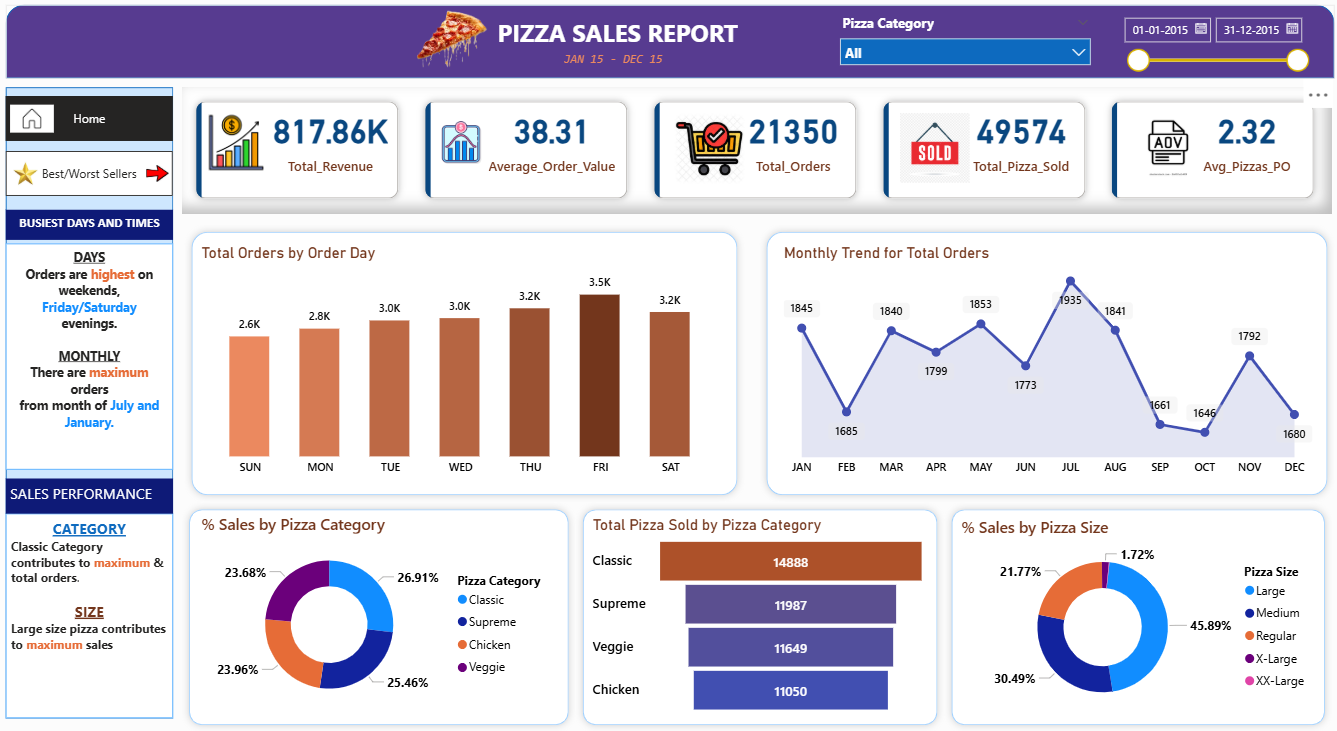

The dashboard page shown, as its layout file describes it:
{"tool":"powerbi","page":{"name":"Home","canvas":[1500,820],"ordinal":0},"visuals":[{"type":"cardVisual","fields":{"Data":["pizza_db pizza_sales.Total_Revenue","pizza_db pizza_sales.Average_Order_Value","pizza_db pizza_sales.Total_Orders","pizza_db pizza_sales.Total_Pizza_Sold","pizza_db pizza_sales.Average_Pizzas_Per_Order"]},"box":[206.1,101.7,1281.3,140.7],"z":0},{"type":"shape","box":[9.7,9.7,1480.4,82.2],"z":1000},{"type":"textbox","box":[536.2,18.1,310.6,51.5],"z":2000},{"type":"textbox","box":[626.7,55.7,142.1,46],"z":3000},{"type":"image","box":[440.1,0,136.5,91.9],"z":4000},{"type":"shape","box":[208.9,254.9,623.9,309.2],"z":5000},{"type":"columnChart","title":"Total Orders by Order Day","fields":{"Category":["pizza_db pizza_sales.Order_Day"],"Y":["pizza_db pizza_sales.Total_Orders"]},"box":[222.8,275.7,587.7,267.4],"z":6000},{"type":"shape","box":[849.5,254.9,640.6,309.2],"z":7000},{"type":"areaChart","title":"Monthly Trend for Total Orders","fields":{"Category":["pizza_db pizza_sales.Order Month"],"Y":["pizza_db pizza_sales.Total_Orders"]},"box":[871.8,275.7,598.8,267.4],"z":8000},{"type":"shape","box":[644.8,564,410.8,256.3],"z":9000},{"type":"shape","box":[206.1,564,438.7,256.3],"z":10000},{"type":"shape","box":[1055.6,564,431.7,256.3],"z":11000},{"type":"donutChart","title":"% Sales by Pizza Category","fields":{"Category":["pizza_db pizza_sales.pizza_category"],"Y":["pizza_db pizza_sales.Total_Revenue"]},"box":[222.8,576.6,403.9,225.6],"z":12000},{"type":"donutChart","title":"% Sales by Pizza Size","fields":{"Y":["pizza_db pizza_sales.Total_Revenue"],"Category":["pizza_db pizza_sales.pizza_size"]},"box":[1069.6,579.4,403.9,225.6],"z":13000},{"type":"funnel","title":"Total Pizza Sold by Pizza Category","fields":{"Y":["pizza_db pizza_sales.Total_Pizza_Sold"],"Category":["pizza_db pizza_sales.pizza_category"]},"box":[658.7,579.4,381.6,225.6],"z":14000},{"type":"shape","box":[9.7,101.7,186.6,703.3],"z":15000},{"type":"textbox","box":[9.7,238.1,186.6,33.4],"z":16000},{"type":"textbox","box":[9.7,275.7,186.6,252.1],"z":17000},{"type":"textbox","box":[9.7,576.6,186.6,228.4],"z":18000},{"type":"textbox","box":[9.7,537.6,186.6,39],"z":19000},{"type":"slicer","fields":{"Values":["pizza_db pizza_sales.pizza_category"]},"box":[928.9,15.3,299.4,61.3],"z":20000},{"type":"slicer","fields":{"Values":["pizza_db pizza_sales.order_date"]},"box":[1243.7,13.9,227,78],"z":21000},{"type":"pageNavigator","box":[9.7,111.4,186.6,50.1],"z":22000},{"type":"pageNavigator","box":[9.7,172.7,186.6,50.1],"z":23000},{"type":"image","box":[161.5,179.7,34.8,36.2],"z":24000},{"type":"image","box":[9.7,105.8,58.5,61.3],"z":25000},{"type":"image","box":[9.7,179.7,44.6,36.2],"z":26000}]}

Visuals, with their boxes in screenshot pixels (x1, y1, x2, y2), scaled from the page's 1500x820 canvas onto the 1337x731 screenshot:
cardVisual - pizza_db pizza_sales.Total_Revenue x pizza_db pizza_sales.Average_Order_Value: [x1=184, y1=91, x2=1326, y2=216]
shape: [x1=9, y1=9, x2=1328, y2=82]
textbox: [x1=478, y1=16, x2=755, y2=62]
textbox: [x1=559, y1=50, x2=685, y2=91]
image: [x1=392, y1=0, x2=514, y2=82]
shape: [x1=186, y1=227, x2=742, y2=503]
"Total Orders by Order Day" columnChart: [x1=199, y1=246, x2=722, y2=484]
shape: [x1=757, y1=227, x2=1328, y2=503]
"Monthly Trend for Total Orders" areaChart: [x1=777, y1=246, x2=1311, y2=484]
shape: [x1=575, y1=503, x2=941, y2=730]
shape: [x1=184, y1=503, x2=575, y2=730]
shape: [x1=941, y1=503, x2=1326, y2=730]
"% Sales by Pizza Category" donutChart: [x1=199, y1=514, x2=559, y2=715]
"% Sales by Pizza Size" donutChart: [x1=953, y1=517, x2=1313, y2=718]
"Total Pizza Sold by Pizza Category" funnel: [x1=587, y1=517, x2=927, y2=718]
shape: [x1=9, y1=91, x2=175, y2=718]
textbox: [x1=9, y1=212, x2=175, y2=242]
textbox: [x1=9, y1=246, x2=175, y2=471]
textbox: [x1=9, y1=514, x2=175, y2=718]
textbox: [x1=9, y1=479, x2=175, y2=514]
slicer - pizza_db pizza_sales.pizza_category: [x1=828, y1=14, x2=1095, y2=68]
slicer - pizza_db pizza_sales.order_date: [x1=1109, y1=12, x2=1311, y2=82]
pageNavigator: [x1=9, y1=99, x2=175, y2=144]
pageNavigator: [x1=9, y1=154, x2=175, y2=199]
image: [x1=144, y1=160, x2=175, y2=192]
image: [x1=9, y1=94, x2=61, y2=149]
image: [x1=9, y1=160, x2=48, y2=192]
